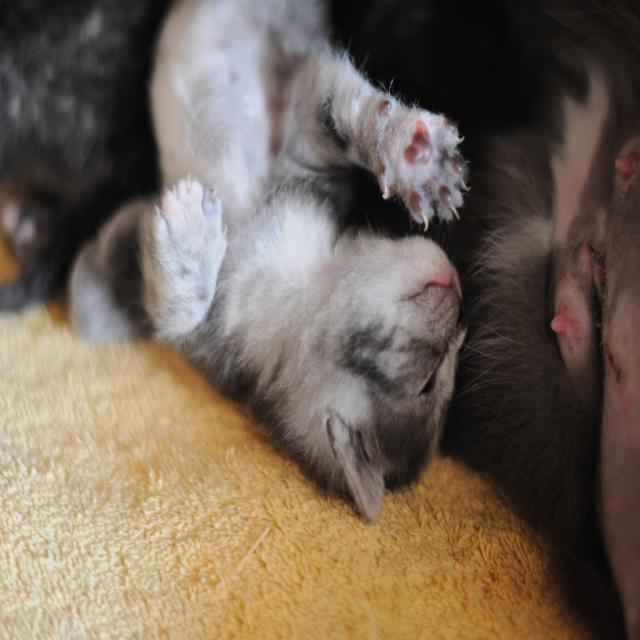Cat: (0, 0, 639, 639), (68, 0, 470, 524)
